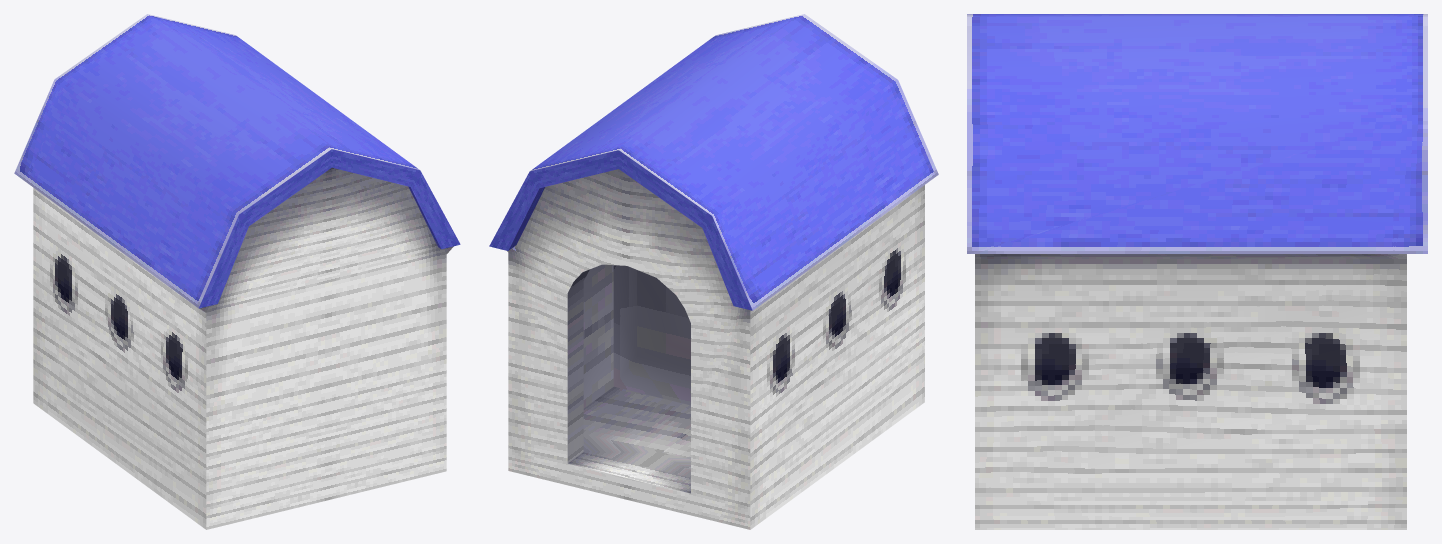
File: ps2_save-icons_dogstation-systemdata.glb
The picture shows the model from 3 angles, left to right: view 1: azimuth 30°, elevation 25°; view 2: azimuth 150°, elevation 25°; view 3: azimuth 270°, elevation 25°; orthographic projection. The views are drawn at different scales.
Visible parts, largest first — view 1: system.ico; view 2: system.ico; view 3: system.ico.
Boxes of the visible parts, x1,y1,x2,y2 form: system.ico: (14,14,460,529); system.ico: (489,14,938,529); system.ico: (967,14,1427,529).
Bounding box in the file's own units: 3.77 × 4.85 × 4.59.
1 material, 1 textured.
